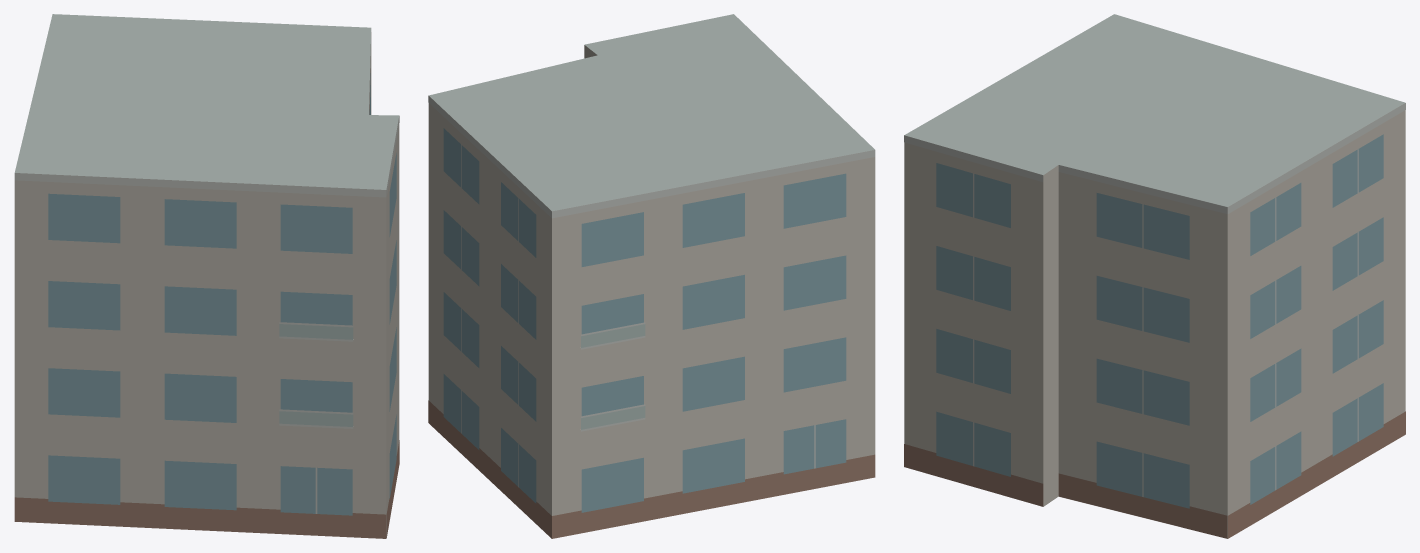
Rendered from survey-upis-32987138.glb.
3 renders of one model, left to right at view 1: azimuth 30°, elevation 25°; view 2: azimuth 150°, elevation 25°; view 3: azimuth 270°, elevation 25°, orthographic. The views are drawn at different scales.
Parts seen in each view (by area): view 1: survey-upis-32987138.tmp; view 2: survey-upis-32987138.tmp; view 3: survey-upis-32987138.tmp.
Boxes of the visible parts, box(x1,y1,x2,y2) form: survey-upis-32987138.tmp: box(14, 14, 399, 538); survey-upis-32987138.tmp: box(428, 14, 875, 538); survey-upis-32987138.tmp: box(904, 14, 1405, 538).
Size of the model in its own units: 14.22 by 11.38 by 15.61.
